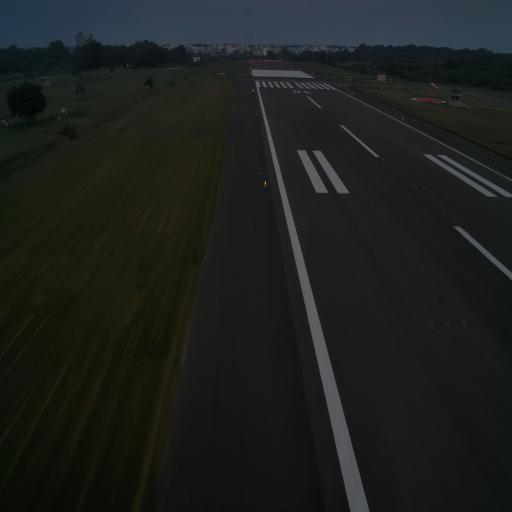off: (427, 316, 433, 330), (444, 320, 451, 332), (462, 318, 469, 328)
on: (262, 178, 268, 188)
